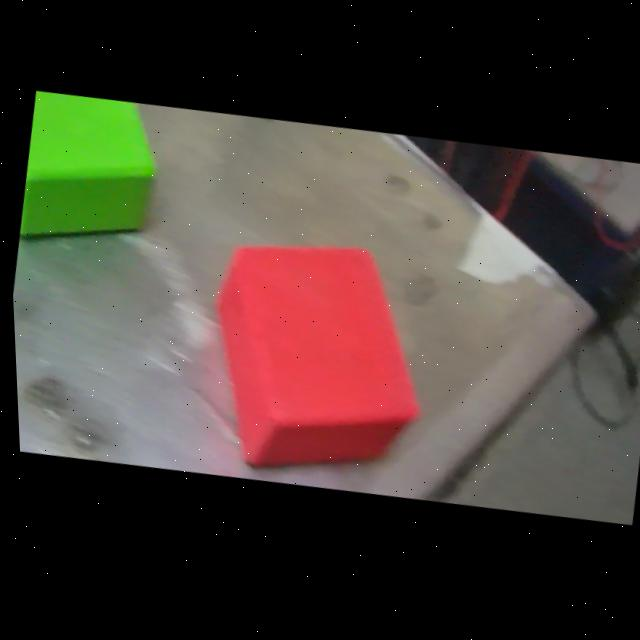greenBox: (12, 87, 168, 264)
redBox: (184, 225, 449, 501)
